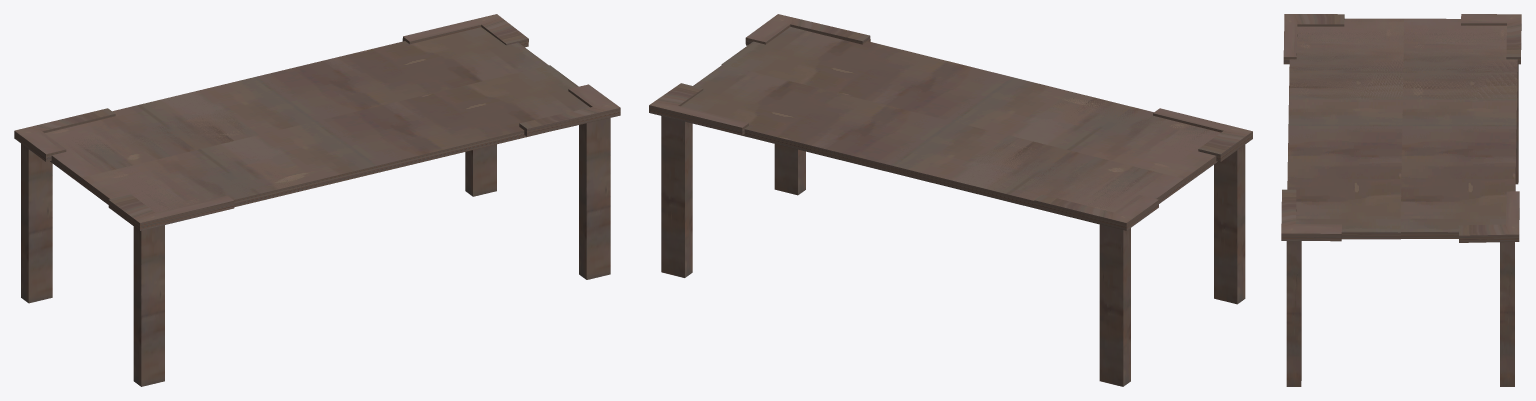
File: EscritorioTe.obj
The picture shows the model from 3 angles, left to right: view 1: azimuth 30°, elevation 25°; view 2: azimuth 150°, elevation 25°; view 3: azimuth 270°, elevation 25°; orthographic projection. The views are drawn at different scales.
Parts seen in each view (by area): view 1: pasted__pasted__pCube23 pasted__group4 group; view 2: pasted__pasted__pCube23 pasted__group4 group; view 3: pasted__pasted__pCube23 pasted__group4 group.
Boxes of the visible parts, box(x1,y1,x2,y2) form: pasted__pasted__pCube23 pasted__group4 group: box(14, 14, 620, 386); pasted__pasted__pCube23 pasted__group4 group: box(649, 14, 1252, 386); pasted__pasted__pCube23 pasted__group4 group: box(1281, 14, 1521, 386).
Bounding box in the file's own units: 2.72 × 0.9063 × 1.25.
Materials: 1 (1 with a texture image).
